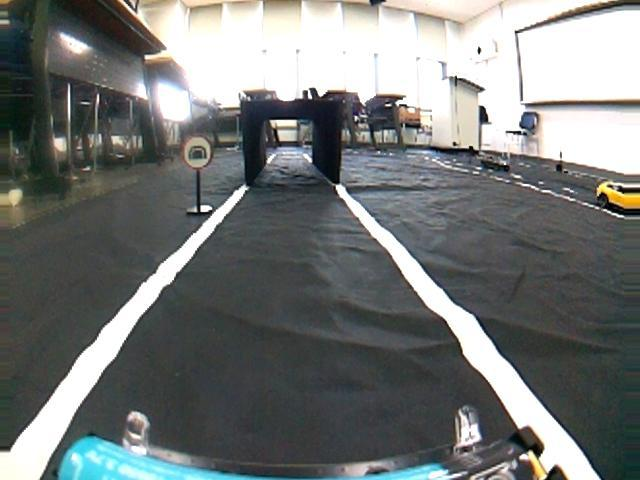sign_tunnel: (182, 134, 214, 170)
straight: (5, 187, 640, 480)
